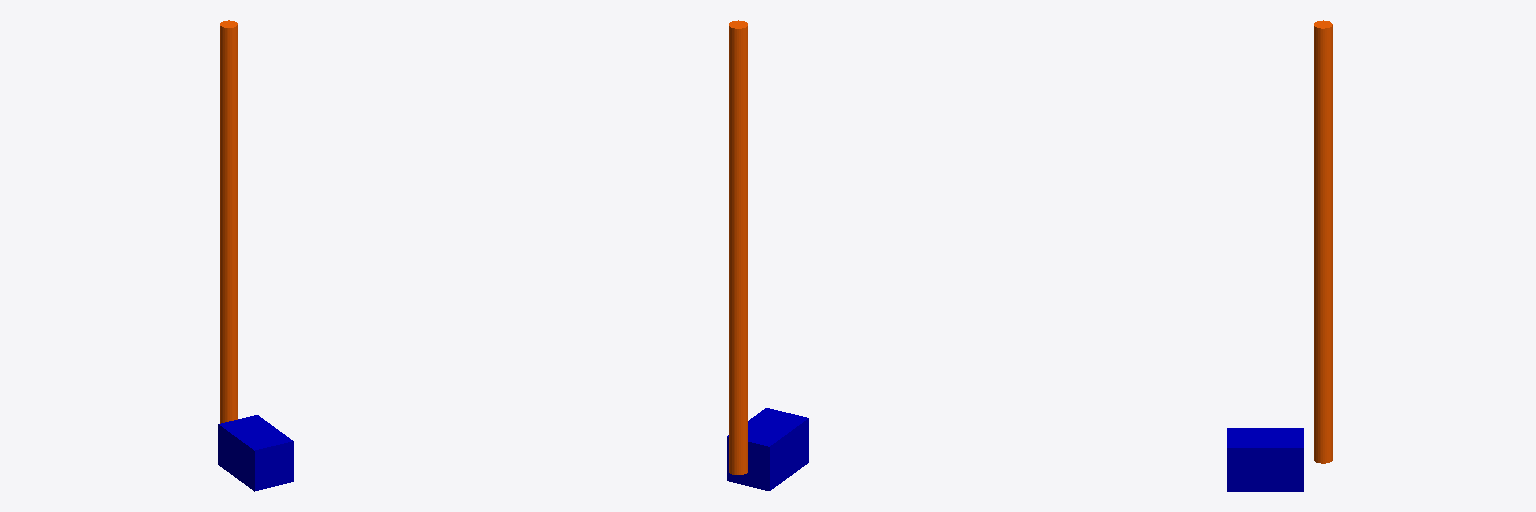
The robot description file, URDF, robot "1dof":
<?xml version="1.0" encoding="utf-8"?>
<robot name="1dof">
  <material name="black">
    <color rgba="0.0 0.0 0.0 1.0"/>
  </material>
  <material name="blue">
    <color rgba="0.0 0.0 0.8 1.0"/>
  </material>
  <material name="green">
    <color rgba="0.0 0.8 0.0 1.0"/>
  </material>
  <material name="grey">
    <color rgba="0.2 0.2 0.2 1.0"/>
  </material>
  <material name="silver">
    <color rgba="0.913725490196 0.913725490196 0.847058823529 1.0"/>
  </material>
  <material name="orange">
    <color rgba="1.0 0.423529411765 0.0392156862745 1.0"/>
  </material>
  <material name="brown">
    <color rgba="0.870588235294 0.811764705882 0.764705882353 1.0"/>
  </material>
  <material name="red">
    <color rgba="0.8 0.0 0.0 1.0"/>
  </material>
  <material name="white">
    <color rgba="1.0 1.0 1.0 1.0"/>
  </material>

  <!-- <link name="world"/> -->

  <link name="trunk">
	 <inertial>
     <origin xyz="0 0 0" rpy="0 0 0"/> 
     <mass value="50"/>
     <inertia ixx="0.03"  ixy="0"  ixz="0" iyy="0.02" iyz="0" izz="0.03" />
    </inertial>
    <visual>
     <origin xyz="0 0 0" rpy="0 0 0" />
     <geometry>
       <box size="0.050 0.080 0.050"/>
     </geometry>
     <material name="blue"/>
    </visual>
    <collision>
     <origin xyz="0 0 0" rpy="0 0 0"/>
     <geometry>
       <box size="0.050 0.080 0.050"/>
     </geometry>
    </collision> 
  </link>


  <link name="link1">
	  <inertial>
     <origin xyz="0 0 0.125" rpy="0 0 0"/>
     <mass value="1"/>
     <inertia ixx="0.005"  ixy="0"  ixz="0" iyy="0.005" iyz="0" izz="0.00005" />
    </inertial>
	  <visual>
     <origin xyz="0 0 0.125" rpy="0 0 0" />
     <geometry>
       <cylinder radius="0.01" length="0.250"/>
     </geometry>
     <material name="orange"/>
    </visual>
	  <collision>
     <origin xyz="0 0 0.125" rpy="0 0 0"/>
     <geometry>
       <cylinder radius="0.01" length="0.250"/>
     </geometry>
    </collision>
  </link>

  
  <link name="link2">
	  <inertial>
     <origin xyz="0 0 0.125" rpy="0 0 0"/>
     <mass value="1"/>
     <inertia ixx="0.005"  ixy="0"  ixz="0" iyy="0.005" iyz="0" izz="0.00005" />
    </inertial>
	  <visual>
     <origin xyz="0 0 0.125" rpy="0 0 0" />
     <geometry>
       <cylinder radius="0.01" length="0.250"/>
     </geometry>
     <material name="orange"/>
    </visual>
	  <collision>
     <origin xyz="0 0 0.125" rpy="0 0 0"/>
     <geometry>
       <cylinder radius="0.01" length="0.250"/>
     </geometry>
    </collision>
  </link>


  

  <!-- Joints -->
  <!-- <joint name="Joint0" type="floating">
    <parent link="world"/>
    <child link="trunk"/>
    <axis xyz="0 0 0"/>
    <origin xyz="0 0 0.15" rpy="0 0 0" />
  </joint> -->

  <joint name="Joint1" type="revolute">
    <parent link="trunk"/>
    <child link="link1"/>
    <axis xyz="0 1 0"/>
    <origin xyz="0 0.06 0.0" rpy="0 0 0" />
  </joint>

  <joint name="Joint2" type="revolute">
    <parent link="link1"/>
    <child link="link2"/>
    <axis xyz="1 0 0"/>
    <origin xyz="0 0 0.250" rpy="0 0 0" />
  </joint>

</robot>

--- Render facts (derived) ---
The picture shows the robot from 3 angles, left to right: view 1: azimuth 30°, elevation 25°; view 2: azimuth 150°, elevation 25°; view 3: azimuth 270°, elevation 25°; orthographic projection.
Robot: 1dof — 3 links, 2 joints (2 revolute); root link trunk; default pose: all joints at 0.
Links seen in each view (by area): view 1: trunk, link2, link1; view 2: trunk, link2, link1; view 3: trunk, link2, link1.
Link boxes in pixels (left/top/right/bottom): trunk: left=218, top=415, right=293, bottom=491; link2: left=220, top=20, right=237, bottom=232; link1: left=220, top=230, right=237, bottom=423; trunk: left=727, top=408, right=808, bottom=490; link2: left=729, top=20, right=747, bottom=251; link1: left=729, top=250, right=747, bottom=474; trunk: left=1227, top=428, right=1303, bottom=491; link2: left=1314, top=20, right=1332, bottom=245; link1: left=1314, top=243, right=1332, bottom=463.
Bounding box of the posed robot: 0.05 × 0.11 × 0.525 m (x, y, z).
Geometry: primitives only (box / cylinder / sphere), no mesh files.